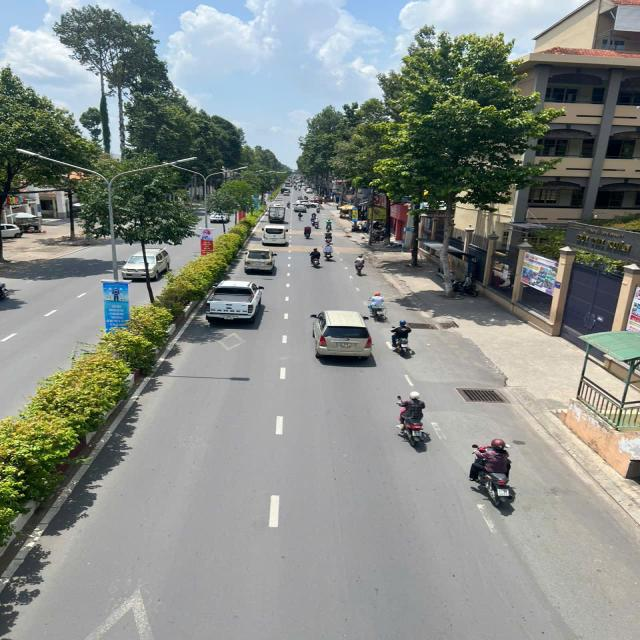Truck: (266, 201, 288, 225)
car: (198, 275, 269, 324), (117, 244, 172, 282), (238, 243, 282, 276), (259, 220, 294, 248), (292, 200, 312, 215)
motobyte: (466, 433, 521, 509), (392, 387, 434, 452), (387, 318, 418, 361), (364, 288, 392, 324), (305, 245, 328, 270), (351, 250, 369, 278), (324, 238, 338, 263), (301, 221, 316, 242), (323, 216, 337, 234), (323, 227, 336, 246)
